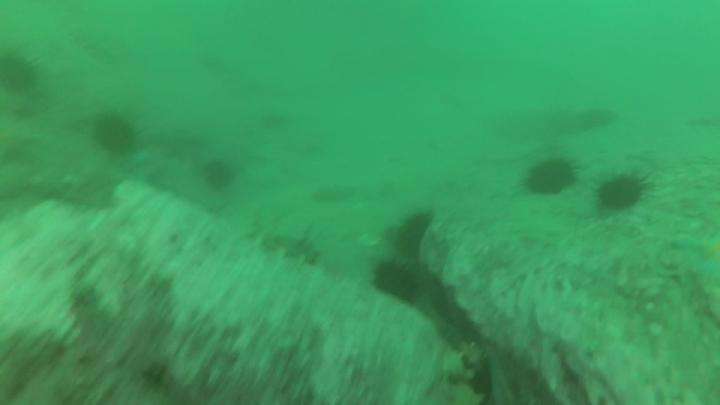echinus: (371, 257, 429, 310), (592, 170, 652, 216), (524, 152, 579, 200), (394, 207, 439, 265), (91, 113, 143, 156), (1, 52, 40, 96), (201, 155, 236, 194)
holothurian: (248, 224, 324, 267), (448, 339, 488, 405)
